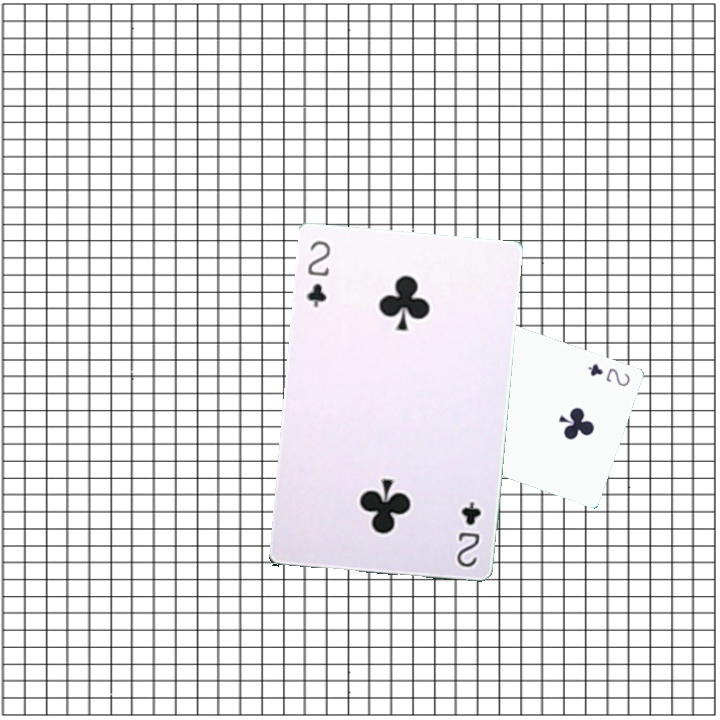2c: (452, 498, 483, 570), (303, 236, 333, 310), (583, 359, 633, 389)
